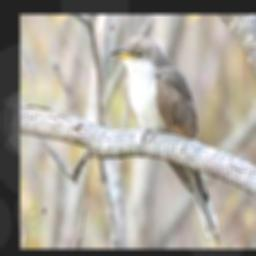Cuckoo: (109, 36, 221, 246)
